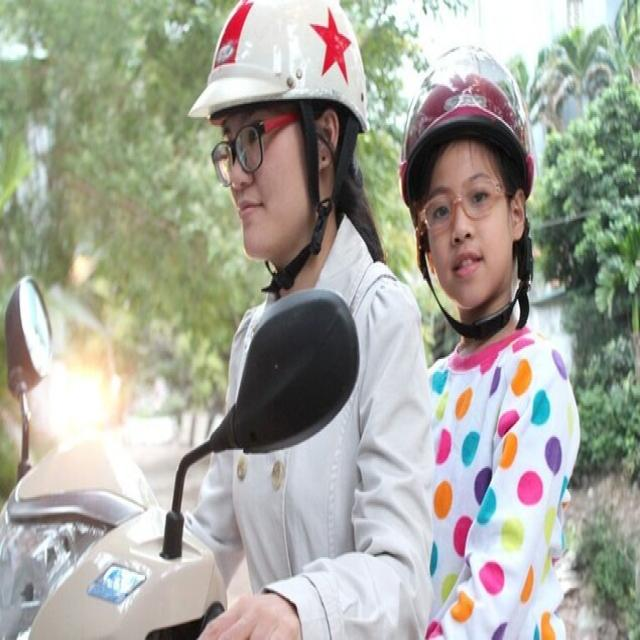1-2-helmet: (398, 43, 535, 206)
